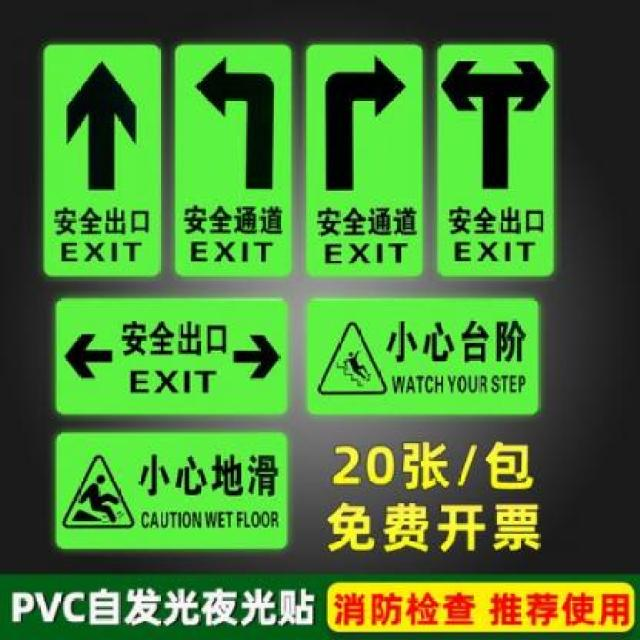exit_sign: (40, 423, 302, 565), (432, 32, 576, 280), (309, 289, 550, 428), (48, 291, 295, 418), (35, 29, 157, 272), (180, 41, 298, 284), (312, 46, 413, 274)
